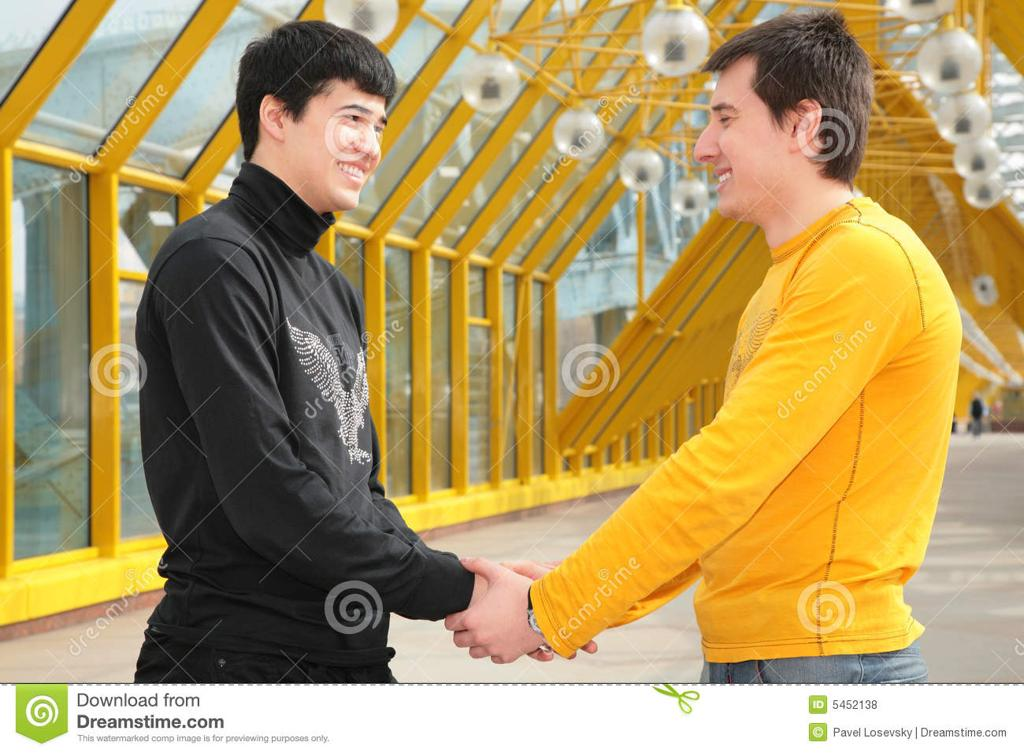face: (698, 58, 768, 214), (320, 66, 390, 208)
